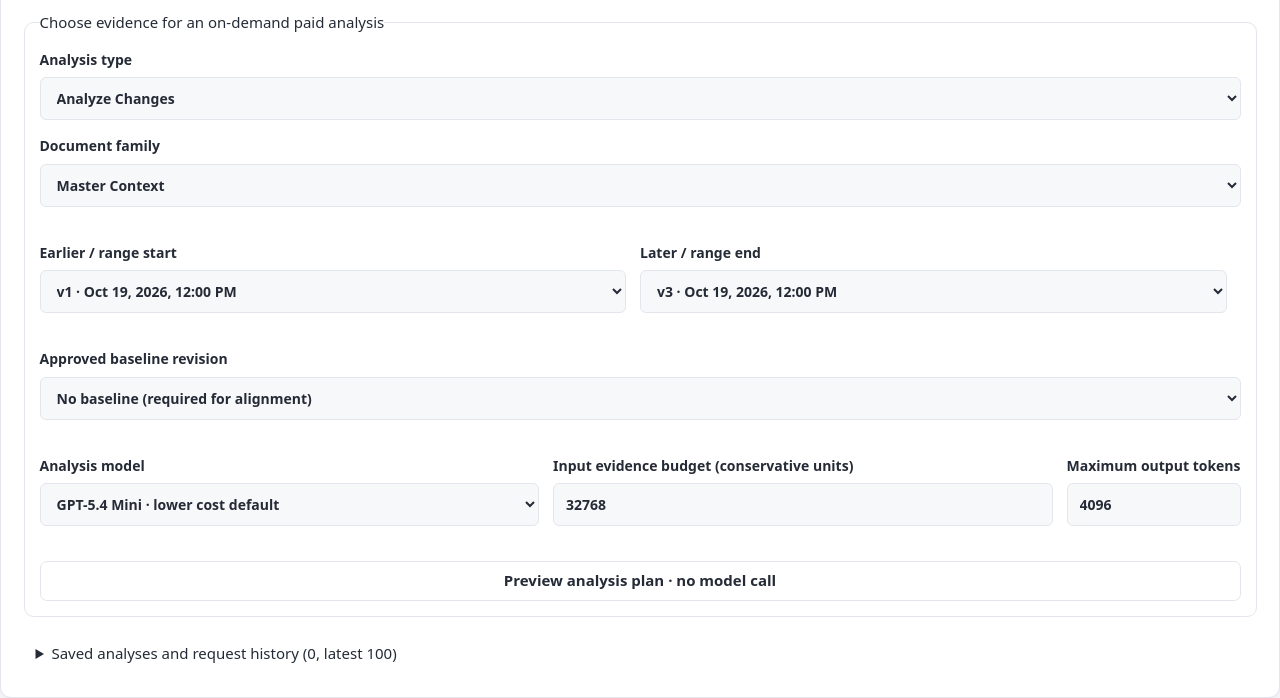
Scenario: loads local metadata and retains an exact nonconsecutive pair until an explicit paid confirmation
(page scrolled)
Click the button "Preview analysis plan · no model call" at (640, 581), box 40,561 -> 1240,601
(page scrolled)
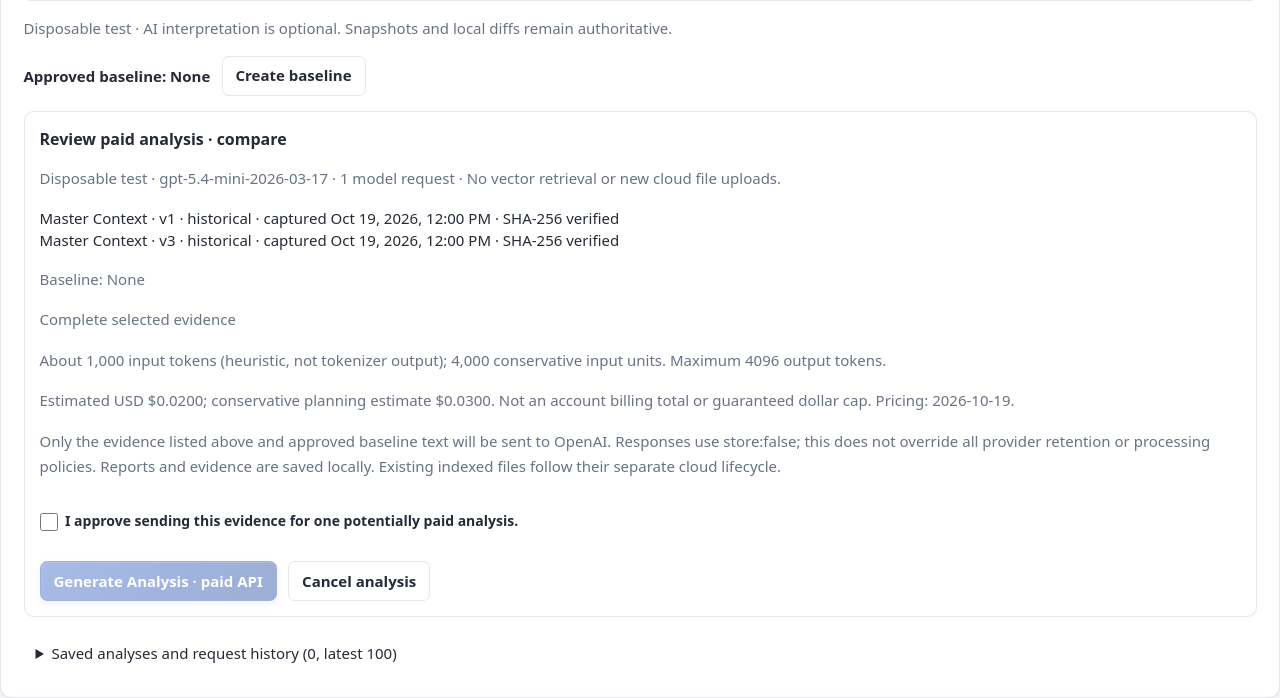
Check: the button "Generate Analysis · paid API" is disabled, box 40,561 -> 277,601
Check: the text "1 model request" is shown, box 40,168 -> 781,188
Click the checkbox labelled "I approve sending" at (48, 522), box 40,513 -> 58,531
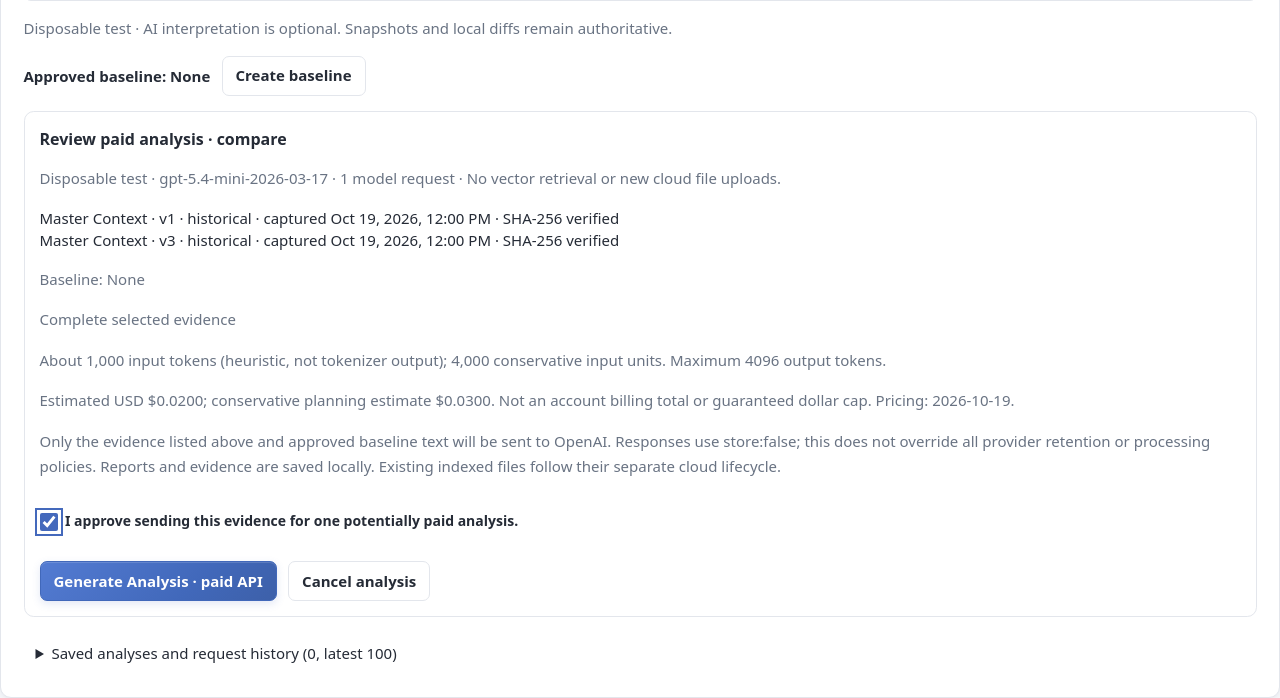
Click the button "Generate Analysis · paid API" at (158, 581), box 40,561 -> 277,601
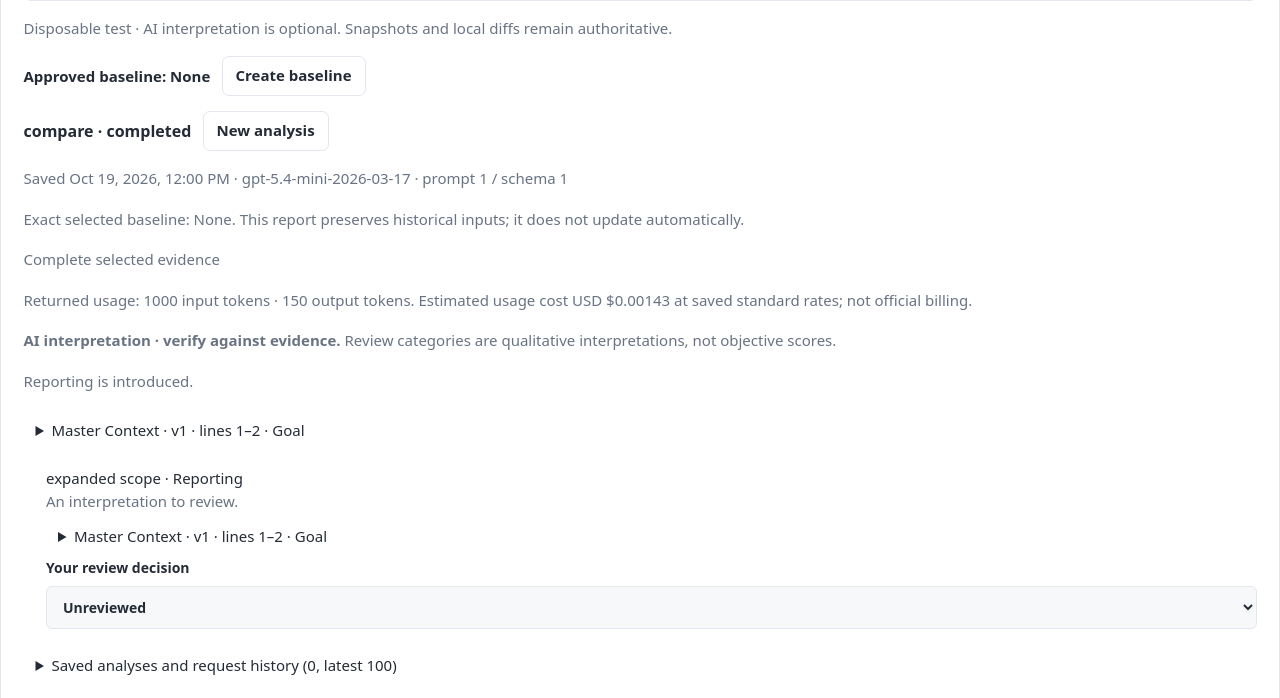
Check: the text "Reporting is introduced." is shown, box 24,370 -> 193,390
Check: the text "1000 input tokens" is shown, box 24,290 -> 972,310
